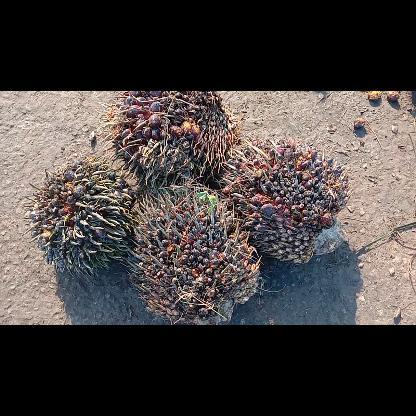TBS abnormal: (127, 182, 261, 324), (220, 133, 350, 265), (21, 153, 141, 277)
TBS masak: (101, 91, 242, 191)
